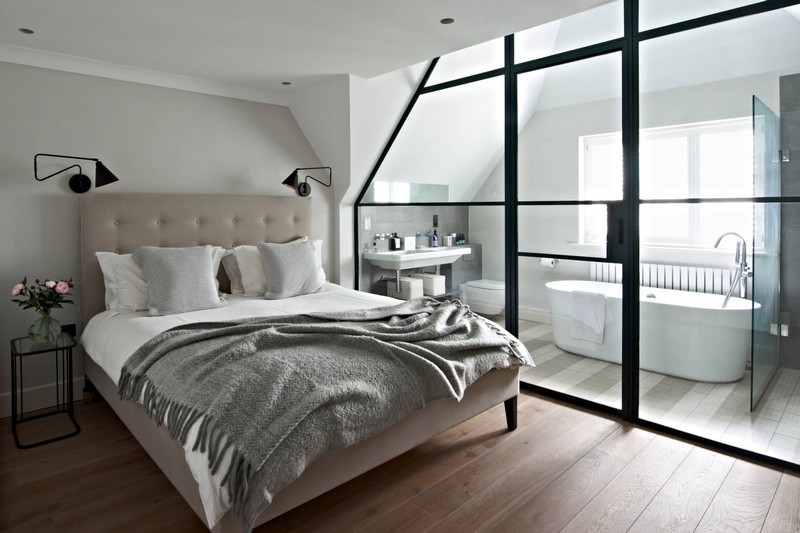bed: (80, 194, 521, 519)
stool: (10, 332, 80, 449)
